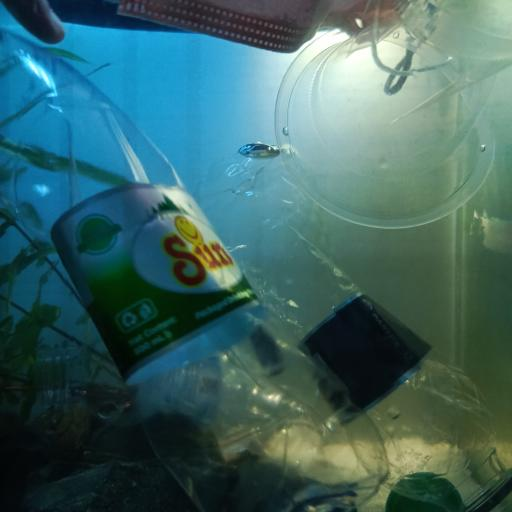bottle_cap: (382, 469, 459, 512)
mask: (115, 0, 430, 52)
plastic_bottle: (2, 28, 391, 512), (188, 142, 512, 511)
plastic_cup: (273, 0, 512, 230)
